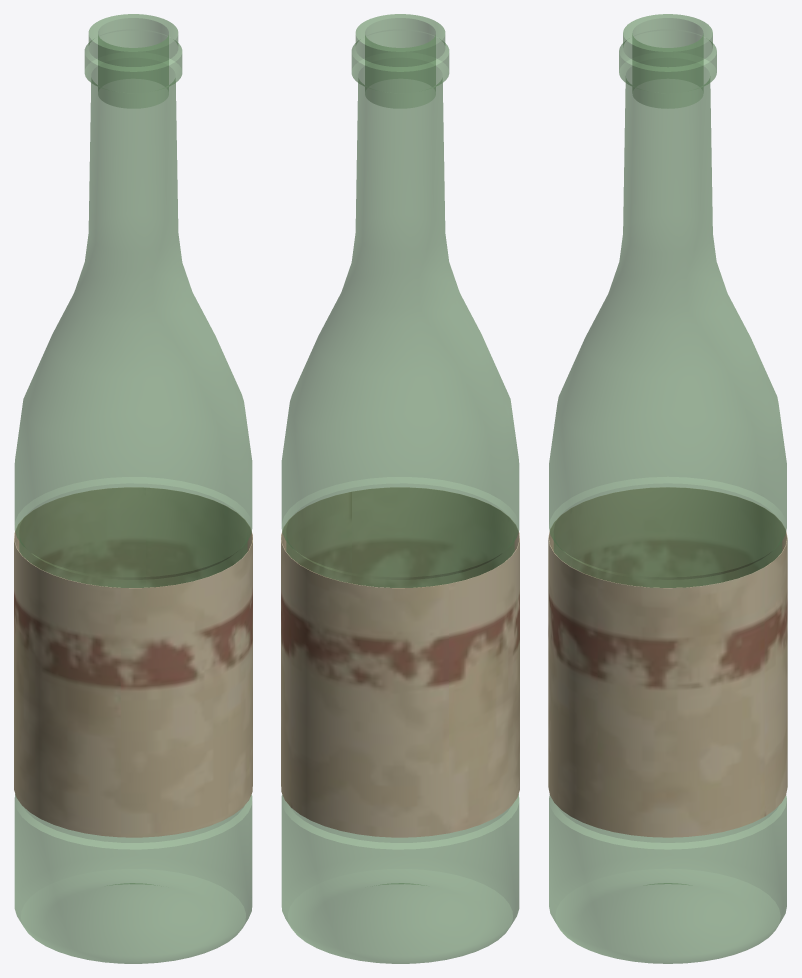
Rendered from garrafa_vidro.glb.
The picture shows the model from 3 angles, left to right: view 1: azimuth 30°, elevation 25°; view 2: azimuth 150°, elevation 25°; view 3: azimuth 270°, elevation 25°; orthographic projection.
Visible parts, largest first — view 1: casca, rotulo; view 2: casca, rotulo; view 3: casca, rotulo.
Boxes of the visible parts, x1,y1,x2,y2 form: casca: [14, 14, 252, 963]; rotulo: [14, 487, 252, 837]; casca: [281, 14, 519, 963]; rotulo: [281, 487, 519, 837]; casca: [549, 14, 786, 963]; rotulo: [548, 487, 787, 837].
Bounding box in the file's own units: 0.0713 × 0.292 × 0.0713.
2 materials, 1 textured.
